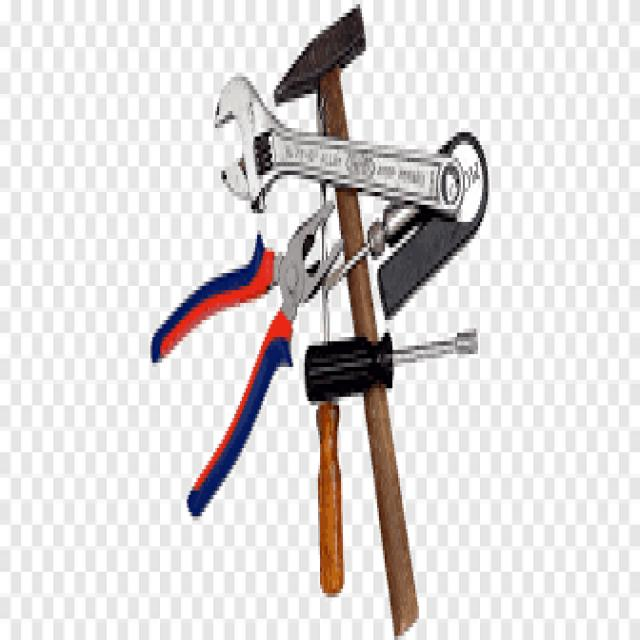wrench: (206, 50, 514, 231)
